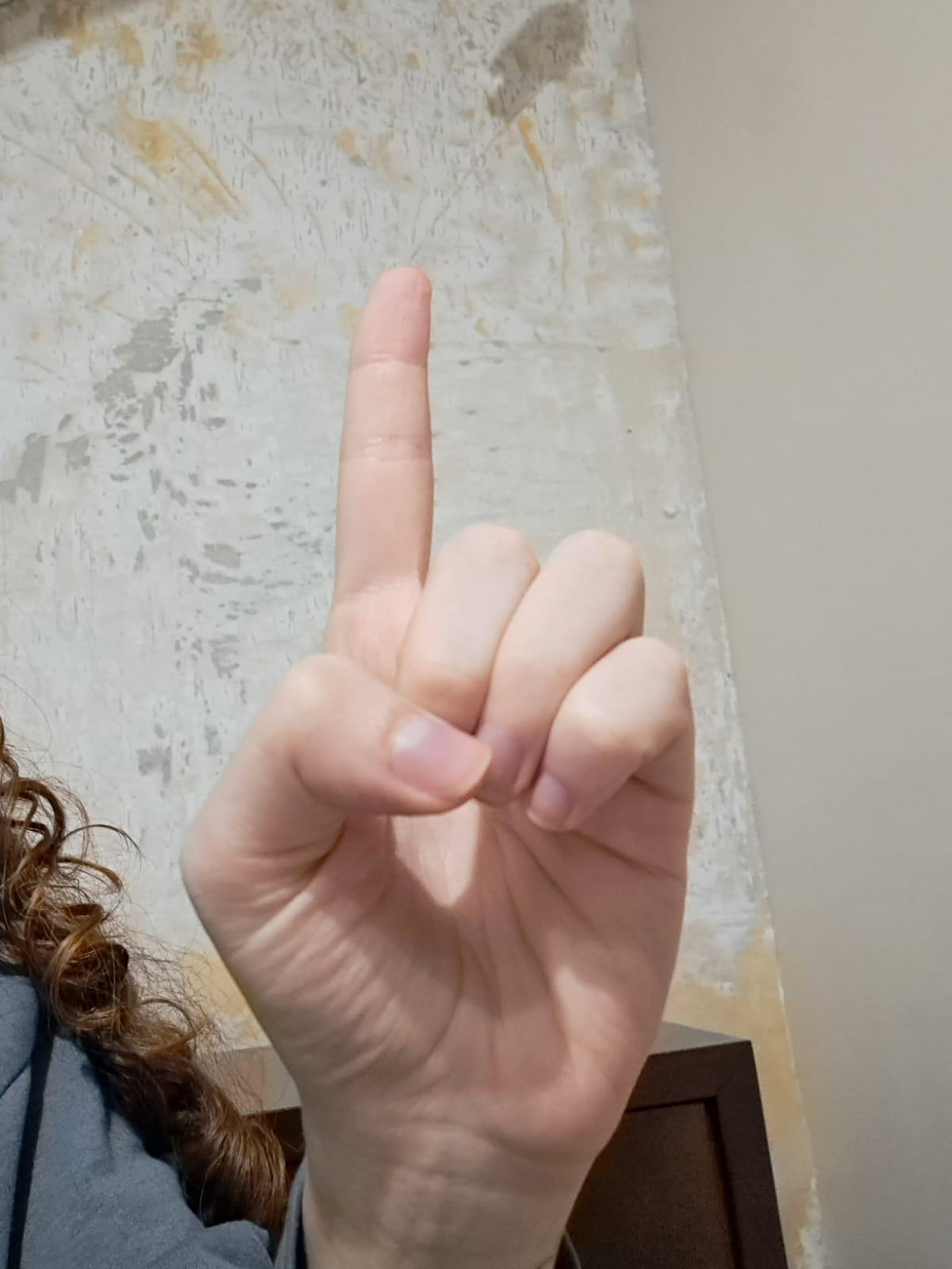D2: (135, 234, 785, 1237)
